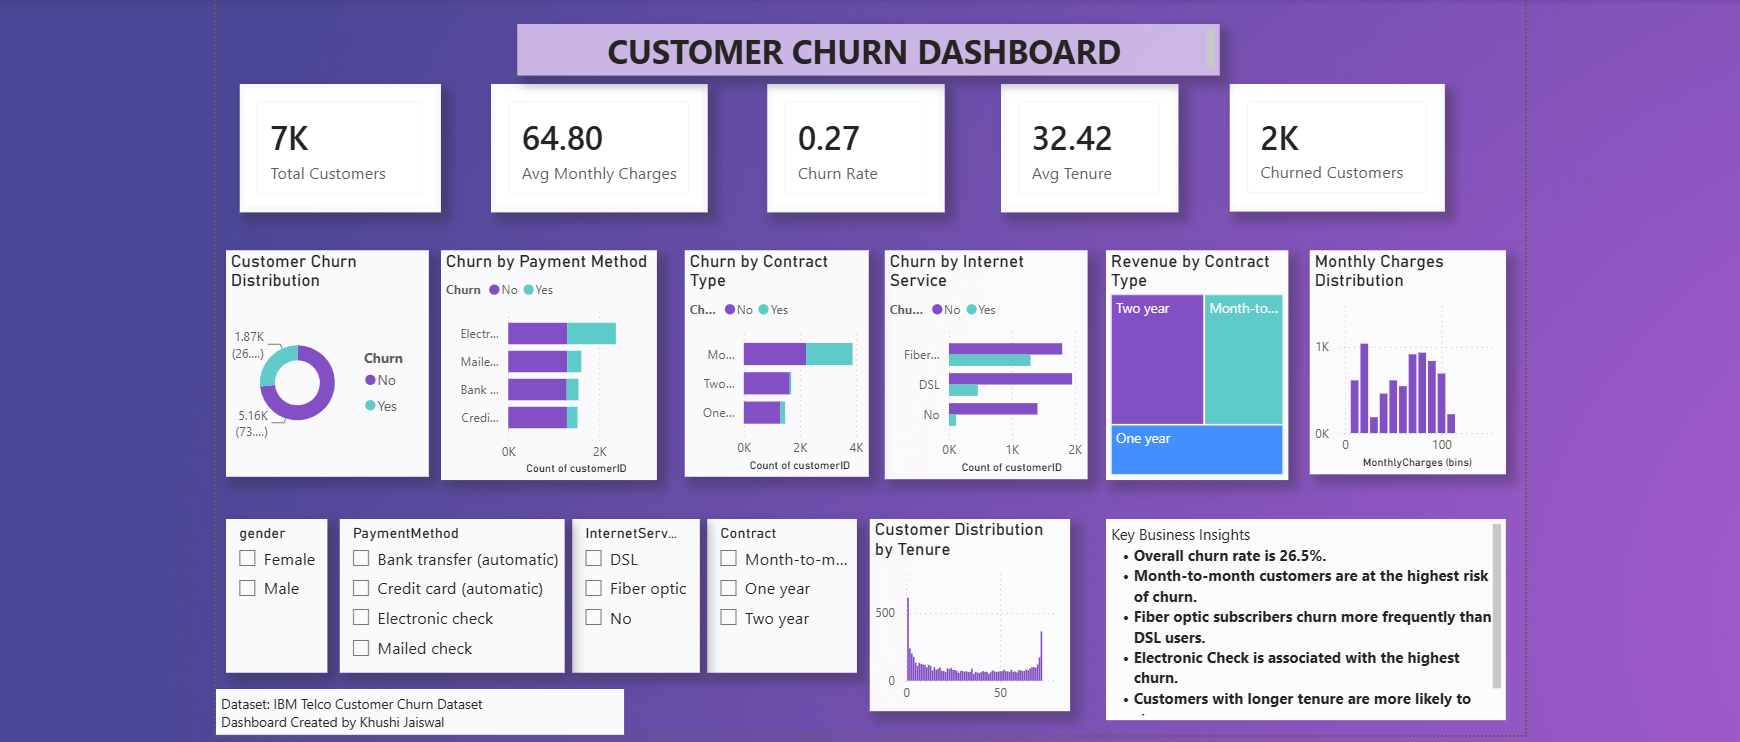

Layout of this report page (visuals, bound fields, positions):
{"tool":"powerbi","page":{"name":"Page 1","canvas":[1280,720],"ordinal":0},"visuals":[{"type":"cardVisual","fields":{"Data":["customer_churn_cleaned.Total Customers"]},"box":[22.7,83.1,196.5,126],"z":0},{"type":"cardVisual","fields":{"Data":["customer_churn_cleaned.Churn Rate"]},"box":[539.2,83.1,173.9,126],"z":1},{"type":"cardVisual","fields":{"Data":["customer_churn_cleaned.Churned Customers"]},"box":[991.7,83.1,210.3,124.7],"z":2},{"type":"cardVisual","fields":{"Data":["customer_churn_cleaned.Avg Monthly Charges"]},"box":[269.6,83.1,211.7,126],"z":3},{"type":"cardVisual","fields":{"Data":["customer_churn_cleaned.Avg Tenure"]},"box":[768.5,83.1,173.9,126],"z":4},{"type":"slicer","fields":{"Values":["customer_churn_cleaned.gender"]},"box":[9.8,508.7,99,150.4],"z":5},{"type":"slicer","fields":{"Values":["customer_churn_cleaned.Contract"]},"box":[480.6,508.7,146.7,150.4],"z":6},{"type":"slicer","fields":{"Values":["customer_churn_cleaned.InternetService"]},"box":[348.5,508.7,124.7,150.4],"z":7},{"type":"slicer","fields":{"Values":["customer_churn_cleaned.PaymentMethod"]},"box":[121.1,508.7,220.1,150.4],"z":8},{"type":"donutChart","title":"Customer Churn Distribution","fields":{"Category":["customer_churn_cleaned.Churn"],"Y":["CountNonNull(customer_churn_cleaned.customerID)"]},"box":[9.8,245.8,198.1,221.3],"z":10},{"type":"barChart","title":"Churn by Payment Method","fields":{"Category":["customer_churn_cleaned.PaymentMethod"],"Series":["customer_churn_cleaned.Churn"],"Y":["CountNonNull(customer_churn_cleaned.customerID)"]},"box":[220.1,245.8,211.6,225],"z":12},{"type":"clusteredBarChart","title":"Churn by Internet Service","fields":{"Category":["customer_churn_cleaned.InternetService"],"Series":["customer_churn_cleaned.Churn"],"Y":["CountNonNull(customer_churn_cleaned.customerID)"]},"box":[654.2,245.8,198.1,223.8],"z":13},{"type":"textbox","box":[294.7,24.5,687.2,50.1],"z":15},{"type":"clusteredColumnChart","title":"Customer Distribution by Tenure","fields":{"Category":["customer_churn_cleaned.tenure"],"Y":["CountNonNull(customer_churn_cleaned.customerID)"]},"box":[639.5,508.7,195.7,188.3],"z":16},{"type":"clusteredColumnChart","title":"Monthly Charges Distribution","fields":{"Category":["customer_churn_cleaned.MonthlyCharges (bins)"],"Y":["CountNonNull(customer_churn_cleaned.customerID)"]},"box":[1070,245.8,192,218.9],"z":17},{"type":"barChart","title":"Churn by Contract Type","fields":{"Category":["customer_churn_cleaned.Contract"],"Series":["customer_churn_cleaned.Churn"],"Y":["CountNonNull(customer_churn_cleaned.customerID)"]},"box":[458.6,245.8,179.8,221.3],"z":19},{"type":"treemap","title":"Revenue by Contract Type","fields":{"Values":["Sum(customer_churn_cleaned.TotalCharges)"],"Group":["customer_churn_cleaned.Contract"]},"box":[870.7,245.8,178.5,225],"z":20},{"type":"textbox","box":[870.7,508.7,391.3,196.9],"z":21},{"type":"textbox","box":[0,675.2,399.3,45],"z":22}]}

Visuals, with their boxes in screenshot pixels (x1, y1, x2, y2):
cardVisual - customer_churn_cleaned.Total Customers: <box>236,80,436,208</box>
cardVisual - customer_churn_cleaned.Churn Rate: <box>762,80,939,208</box>
cardVisual - customer_churn_cleaned.Churned Customers: <box>1222,80,1436,207</box>
cardVisual - customer_churn_cleaned.Avg Monthly Charges: <box>487,80,703,208</box>
cardVisual - customer_churn_cleaned.Avg Tenure: <box>995,80,1172,208</box>
slicer - customer_churn_cleaned.gender: <box>223,513,324,666</box>
slicer - customer_churn_cleaned.Contract: <box>702,513,851,666</box>
slicer - customer_churn_cleaned.InternetService: <box>568,513,695,666</box>
slicer - customer_churn_cleaned.PaymentMethod: <box>336,513,560,666</box>
"Customer Churn Distribution" donutChart: <box>223,246,425,471</box>
"Churn by Payment Method" barChart: <box>437,246,652,475</box>
"Churn by Internet Service" clusteredBarChart: <box>879,246,1080,473</box>
textbox: <box>513,20,1212,71</box>
"Customer Distribution by Tenure" clusteredColumnChart: <box>864,513,1063,705</box>
"Monthly Charges Distribution" clusteredColumnChart: <box>1302,246,1497,468</box>
"Churn by Contract Type" barChart: <box>680,246,863,471</box>
"Revenue by Contract Type" treemap: <box>1099,246,1281,475</box>
textbox: <box>1099,513,1497,714</box>
textbox: <box>213,683,619,729</box>
